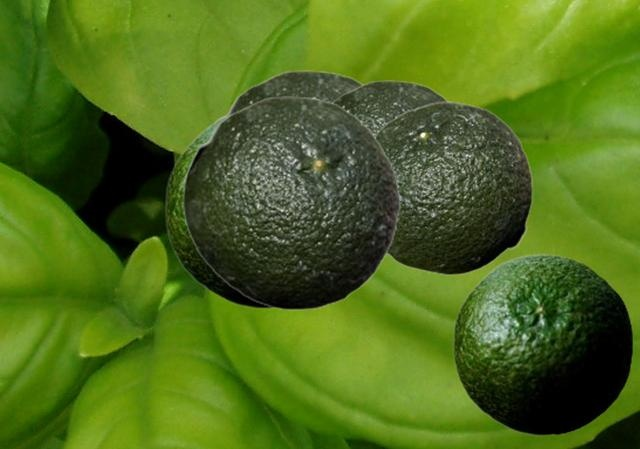calamansi: (182, 96, 400, 309), (452, 253, 632, 435), (375, 101, 532, 274), (164, 108, 271, 308), (216, 70, 362, 118), (333, 80, 450, 133)
